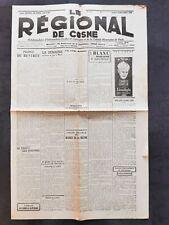paper: (11, 5, 149, 220)
